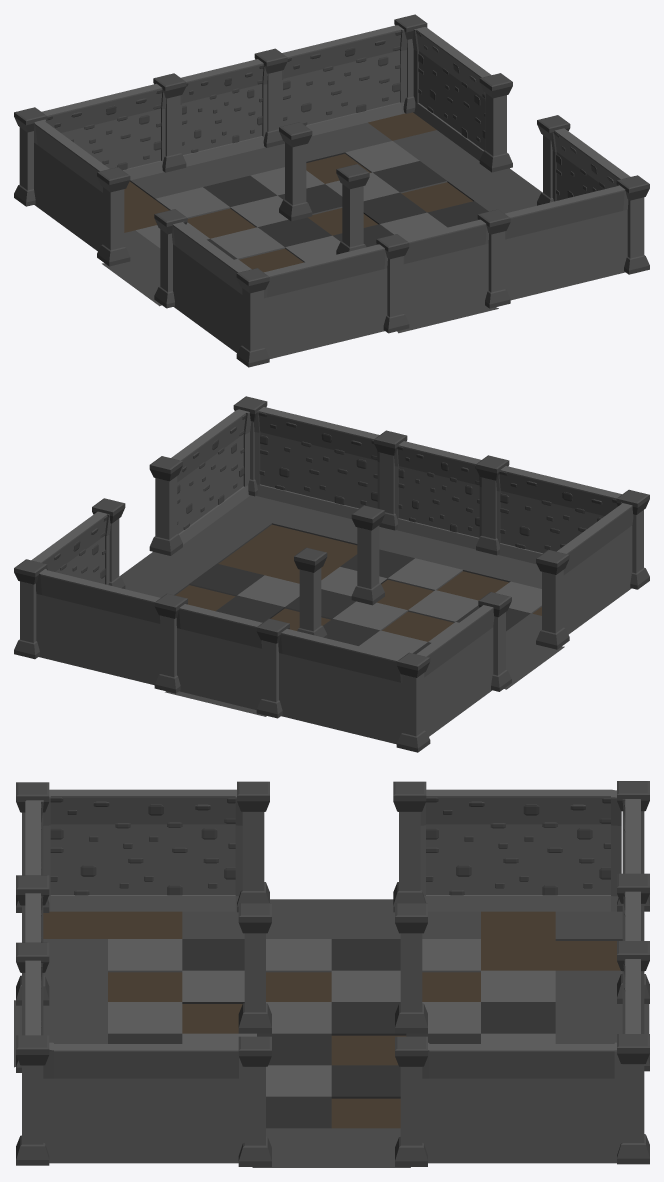
Rendered from StoneFloorRoomVar2.fbx.
The picture shows the model from 3 angles, top to bottom: view 1: azimuth 30°, elevation 25°; view 2: azimuth 150°, elevation 25°; view 3: azimuth 270°, elevation 25°; orthographic projection. The views are drawn at different scales.
Visible parts, largest first — view 1: StoneWallRoomVar2, StoneFloorRoomVar2; view 2: StoneWallRoomVar2, StoneFloorRoomVar2; view 3: StoneWallRoomVar2, StoneFloorRoomVar2.
Part boxes in pixels (bbox=[...]): StoneWallRoomVar2: bbox=[14, 14, 649, 367]; StoneFloorRoomVar2: bbox=[102, 112, 542, 333]; StoneWallRoomVar2: bbox=[14, 396, 649, 752]; StoneFloorRoomVar2: bbox=[120, 495, 564, 716]; StoneWallRoomVar2: bbox=[16, 781, 649, 1166]; StoneFloorRoomVar2: bbox=[14, 899, 649, 1167].
Bounding box in the file's own units: 800 × 168 × 797.
1 material, 1 textured.
